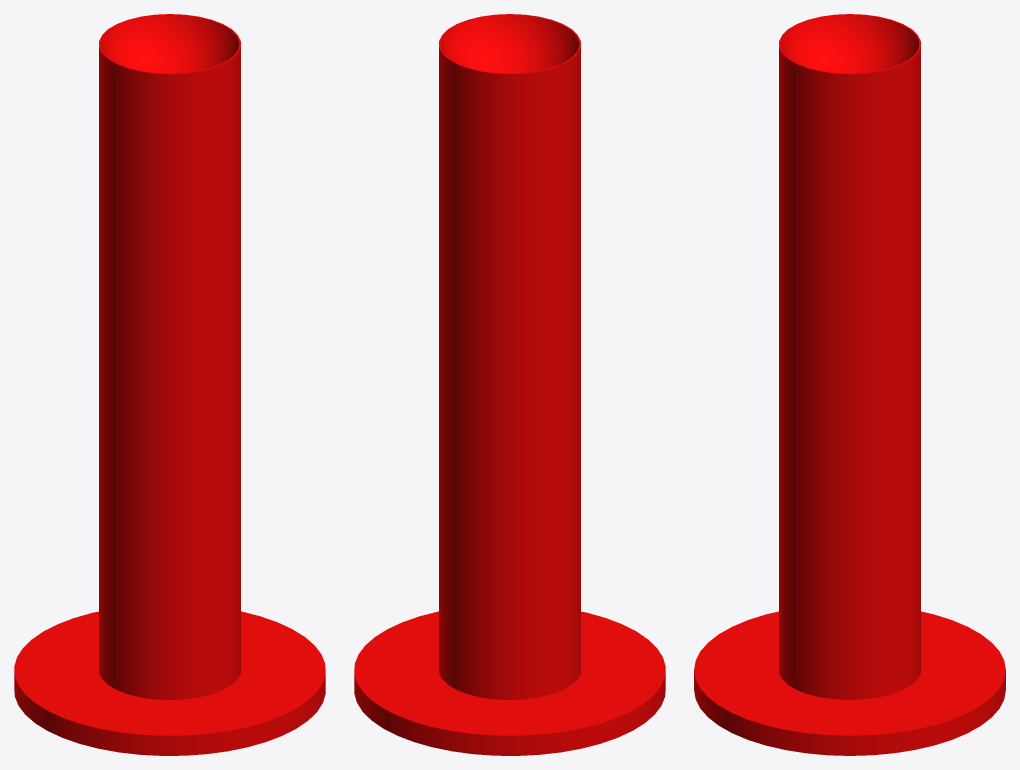
Rendered from bump-flare-red.obj.
3 views of the same model, side by side, from view 1: azimuth 30°, elevation 25°; view 2: azimuth 150°, elevation 25°; view 3: azimuth 270°, elevation 25° (orthographic).
Visible parts, largest first — view 1: Entity2geometry; view 2: Entity2geometry; view 3: Entity2geometry.
Part boxes in pixels (x1,y1,x2,y2): Entity2geometry: (14,14,325,755); Entity2geometry: (354,14,665,755); Entity2geometry: (694,14,1005,755).
Size of the model in its own units: 35 by 80 by 35.
